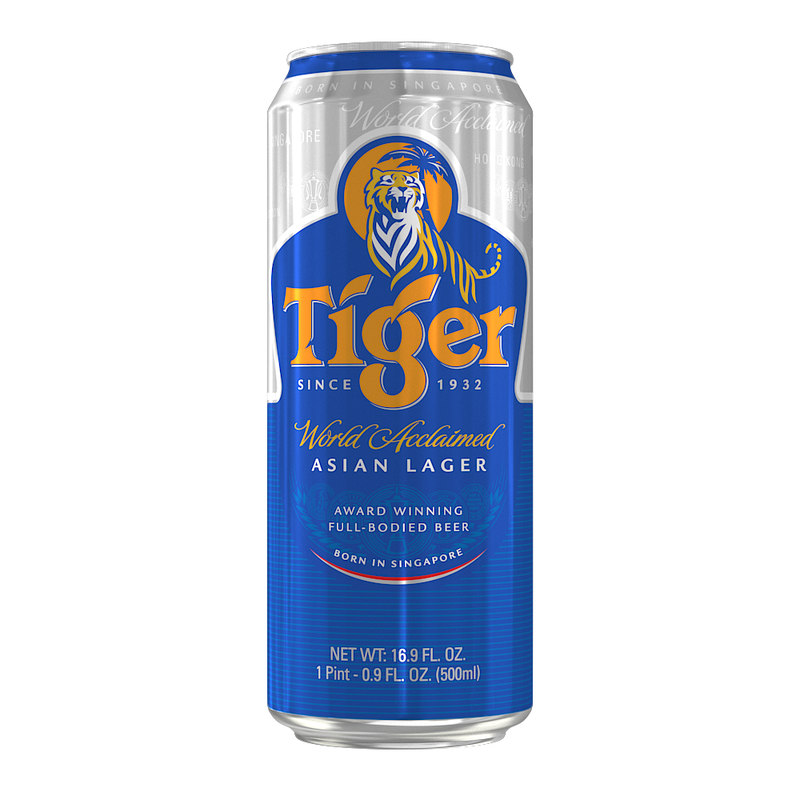beer can: (267, 41, 532, 749)
